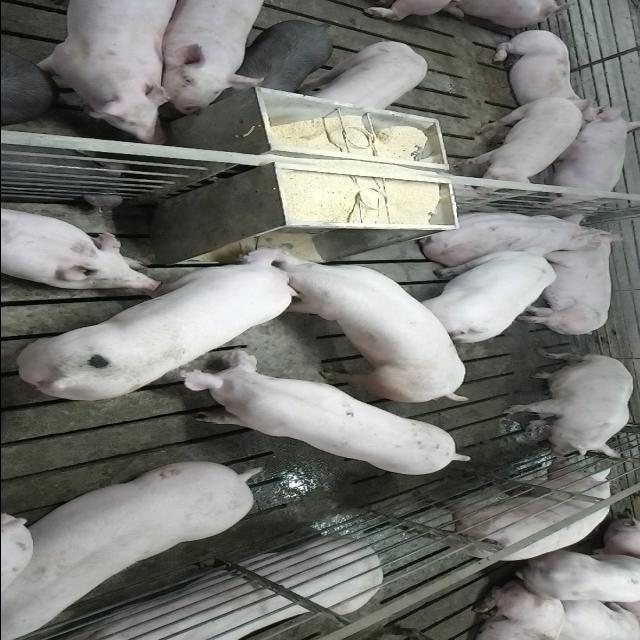Feeding: (15, 244, 297, 403), (256, 248, 474, 408)
Lateral_lying: (514, 225, 626, 339)
Sitting: (499, 353, 633, 462)
Standing: (5, 457, 265, 636), (172, 354, 472, 480), (25, 2, 182, 142), (405, 460, 612, 560), (410, 250, 560, 344), (452, 96, 582, 194), (160, 0, 272, 112), (300, 40, 430, 110), (230, 20, 334, 94)
Sternal_lying: (48, 540, 379, 640), (0, 206, 157, 290), (486, 28, 593, 116)
